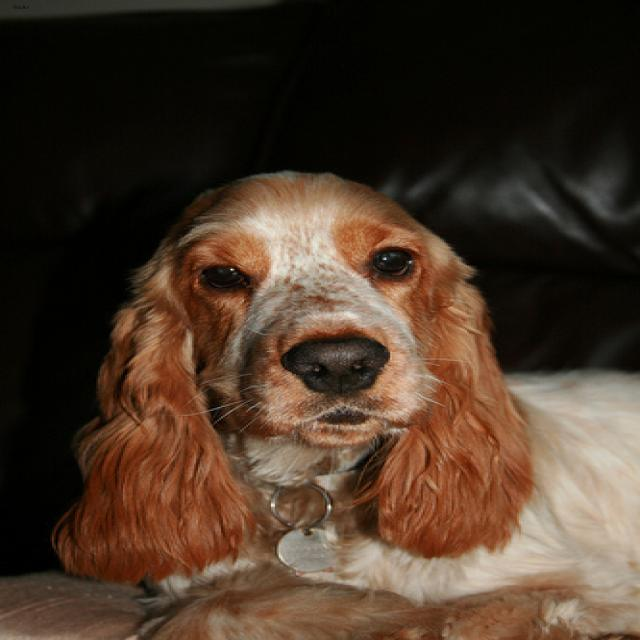dog-english_cocker_spaniel: (27, 159, 636, 637)
